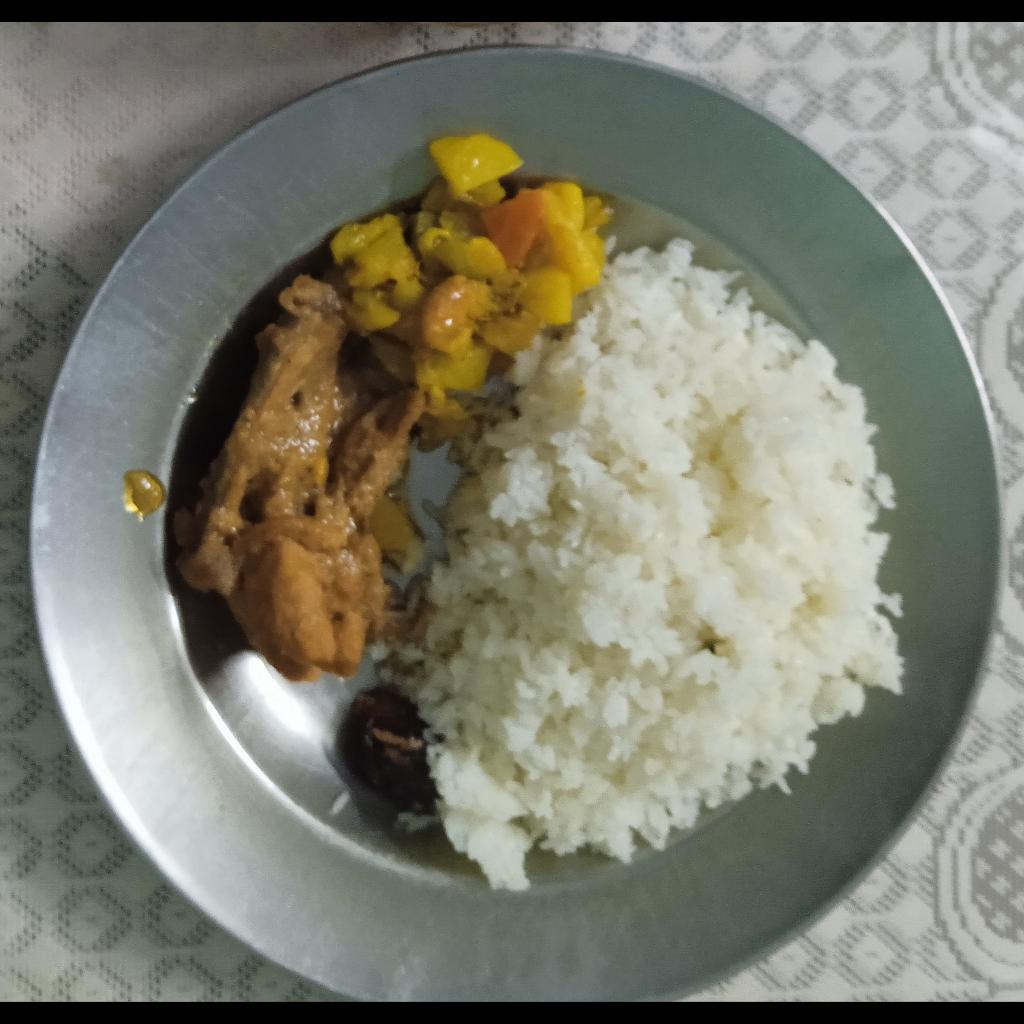chicken: (177, 276, 422, 686)
dates: (339, 688, 432, 813)
rice: (380, 238, 901, 896)
vegetable: (329, 134, 612, 450)
